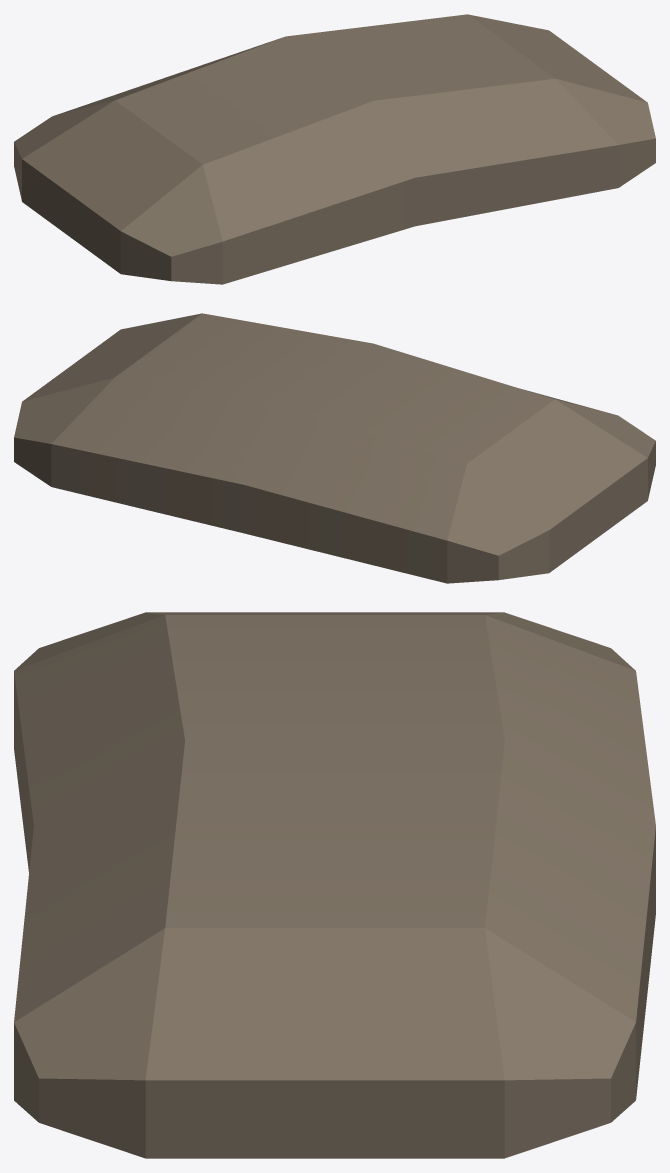
File: SM_Prop_Sack_01.glb
The picture shows the model from 3 angles, top to bottom: view 1: azimuth 30°, elevation 25°; view 2: azimuth 150°, elevation 25°; view 3: azimuth 270°, elevation 25°; orthographic projection. The views are drawn at different scales.
Visible parts, largest first — view 1: SM_Prop_Sack_01; view 2: SM_Prop_Sack_01; view 3: SM_Prop_Sack_01.
Boxes of the visible parts, bbox=[...] form: SM_Prop_Sack_01: bbox=[14, 14, 655, 284]; SM_Prop_Sack_01: bbox=[14, 313, 655, 583]; SM_Prop_Sack_01: bbox=[14, 612, 655, 1158].
Size of the model in its own units: 0.0104 by 0.00238 by 0.00602.
